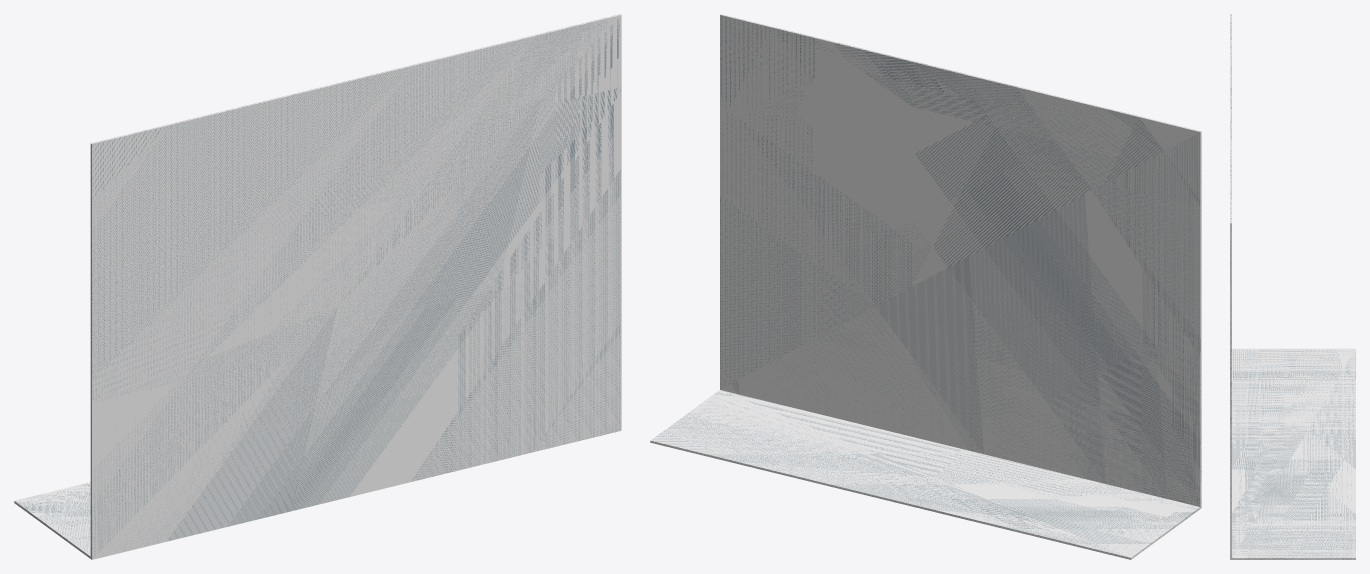
File: 14_IW_SHELF_SEED_W300_H450_BOTTOM_2_600-0x450-0x152-5.dae
The picture shows the model from 3 angles, left to right: view 1: azimuth 30°, elevation 25°; view 2: azimuth 150°, elevation 25°; view 3: azimuth 270°, elevation 25°; orthographic projection. The views are drawn at different scales.
Visible parts, largest first — view 1: SketchUp; view 2: SketchUp; view 3: SketchUp.
Boxes of the visible parts, x1,y1,x2,y2 form: SketchUp: (14,14,621,559); SketchUp: (650,14,1201,559); SketchUp: (1230,14,1355,559).
Bounding box in the file's own units: 23.62 × 6 × 17.72.
